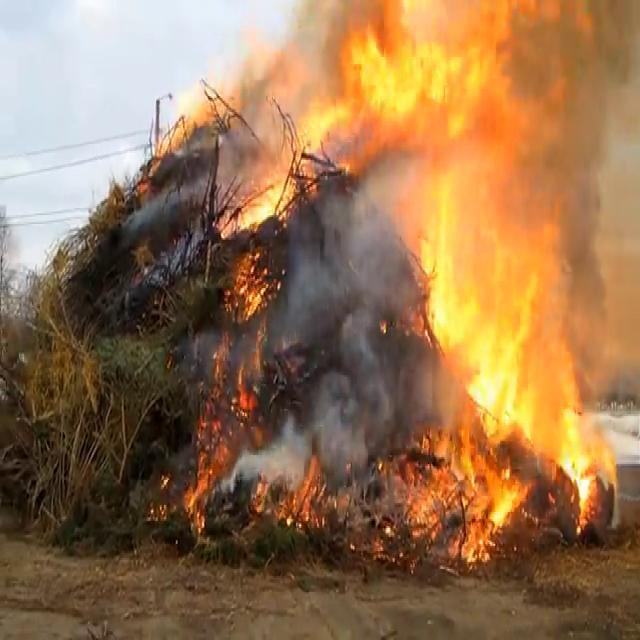fire: (463, 124, 519, 222), (450, 50, 510, 138), (390, 45, 446, 119), (522, 360, 573, 430), (335, 0, 402, 53), (445, 3, 531, 43), (434, 180, 476, 260), (482, 244, 529, 314), (475, 329, 518, 402), (524, 278, 558, 354), (548, 408, 590, 461), (432, 284, 472, 338), (536, 8, 591, 43), (353, 37, 385, 85), (422, 248, 460, 280), (590, 433, 612, 469), (573, 452, 589, 494)
smoke: (560, 170, 598, 236), (562, 111, 602, 165), (591, 56, 623, 116), (610, 18, 638, 82), (316, 400, 349, 454), (374, 152, 406, 206), (324, 202, 354, 256), (278, 431, 308, 481), (358, 252, 390, 296), (295, 262, 327, 304), (352, 184, 374, 245), (345, 312, 373, 358), (366, 373, 390, 416), (244, 450, 272, 480), (417, 362, 434, 405), (222, 157, 236, 176), (148, 197, 160, 213), (136, 207, 146, 222), (184, 186, 191, 200)
